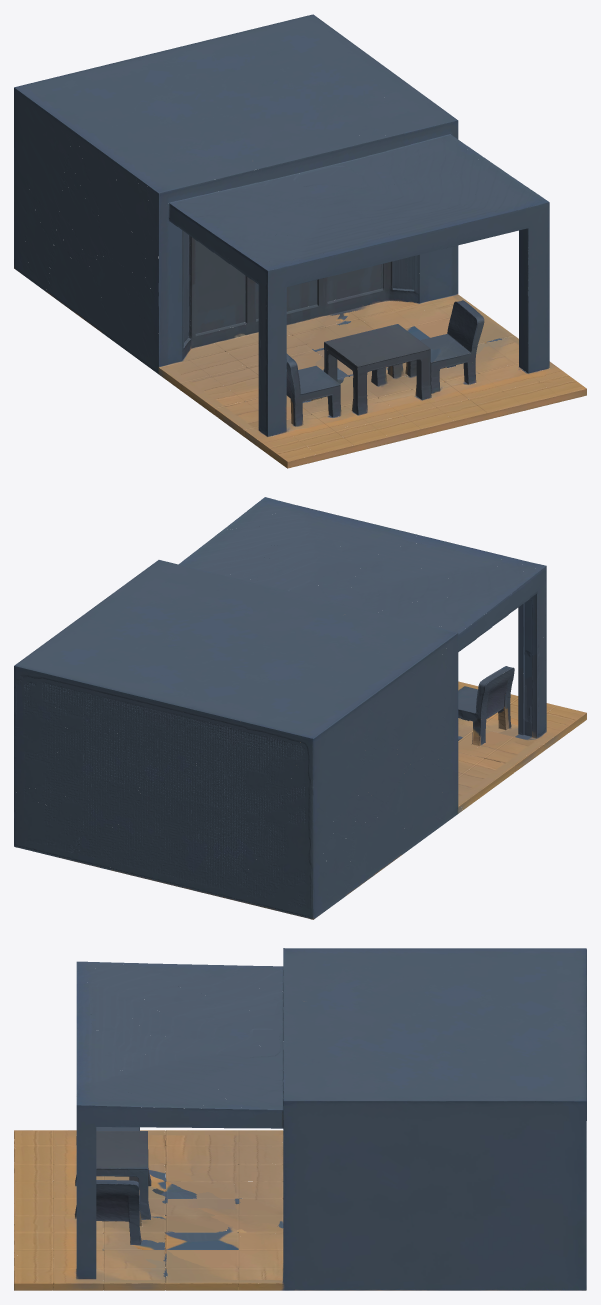
Rendered from mobile_house.glb.
The picture shows the model from 3 angles, top to bottom: view 1: azimuth 30°, elevation 25°; view 2: azimuth 150°, elevation 25°; view 3: azimuth 270°, elevation 25°; orthographic projection. The views are drawn at different scales.
Parts seen in each view (by area): view 1: tmprwtetk2y.obj; view 2: tmprwtetk2y.obj; view 3: tmprwtetk2y.obj.
Part boxes in pixels (x1=…): tmprwtetk2y.obj: x1=14, y1=14, x2=586, y2=468; tmprwtetk2y.obj: x1=14, y1=497, x2=586, y2=919; tmprwtetk2y.obj: x1=14, y1=948, x2=586, y2=1290.
Size of the model in its own units: 0.9896 by 0.5721 by 1.56.
1 material, 1 textured.
